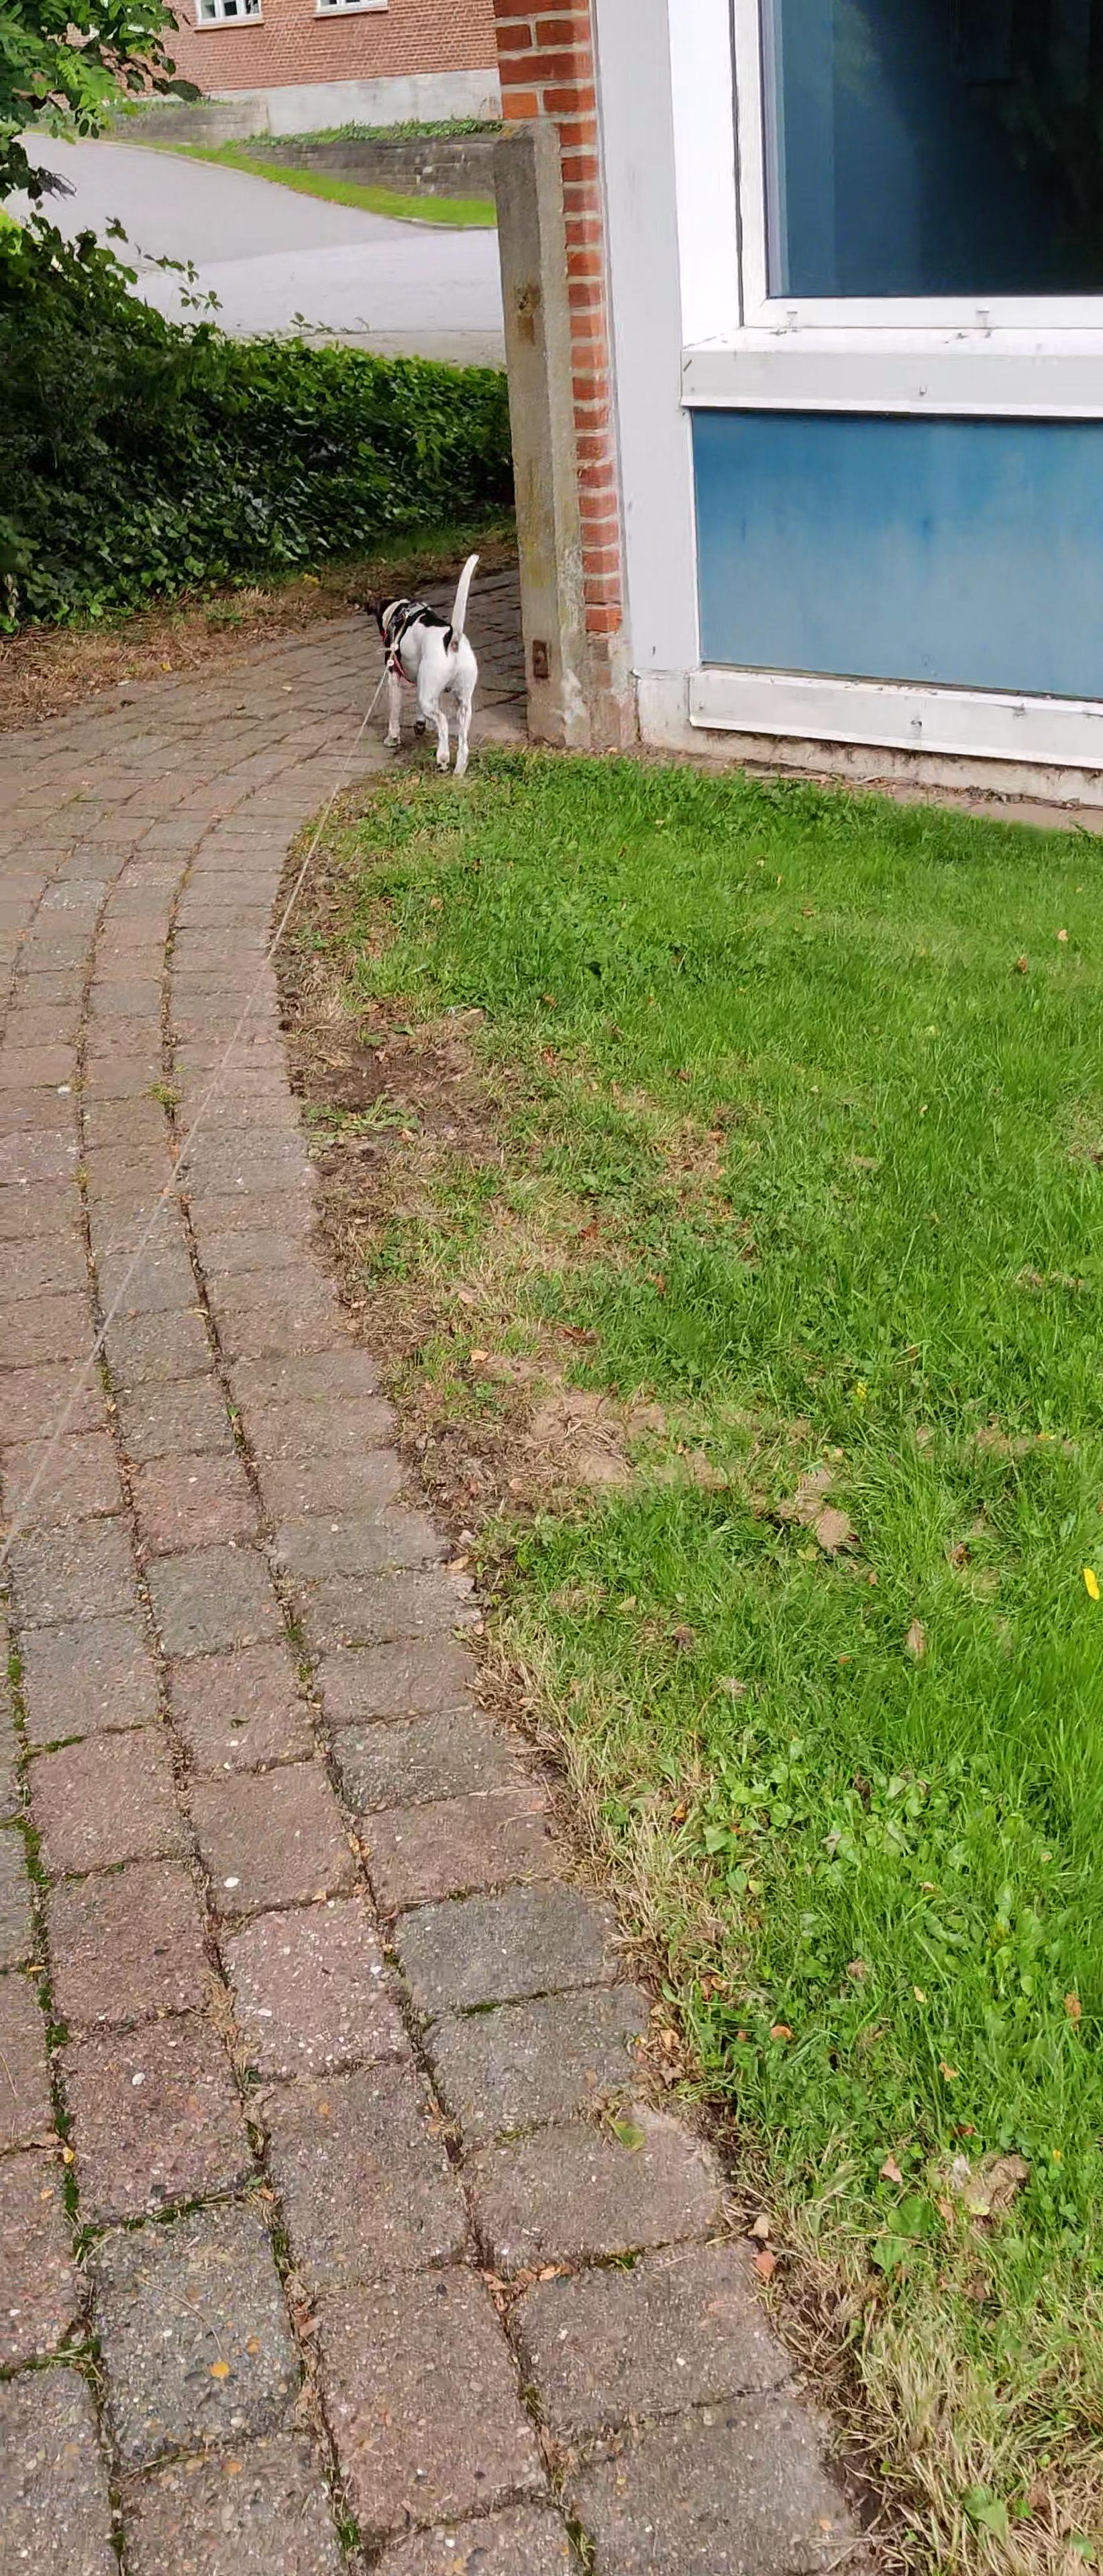Dog: (358, 550, 487, 784)
